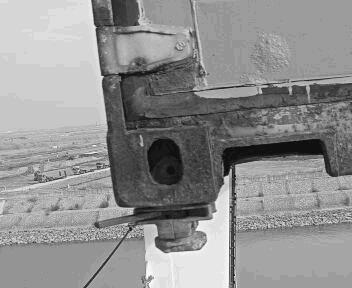twist_lock_1: (114, 198, 218, 271)
